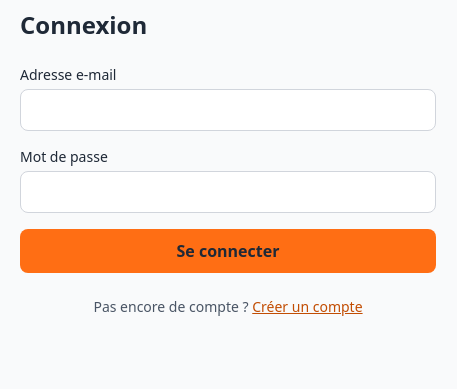
Scenario: page de connexion › affiche le message du serveur pour de mauvais identifiants
Type "marie@test.fr" into the field labelled "Adresse e-mail" at (228, 110), box top-left (20, 89), bottom-right (436, 131)
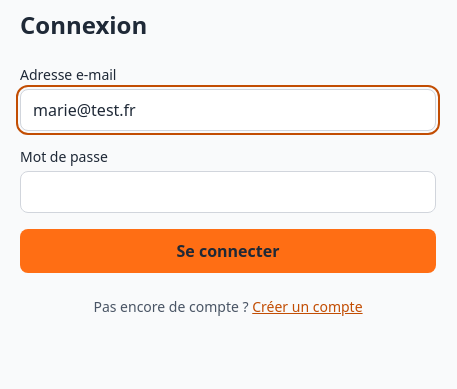
Type "mauvais-mot-de-passe" into the password field labelled "Mot de passe" at (228, 192), box top-left (20, 171), bottom-right (436, 213)
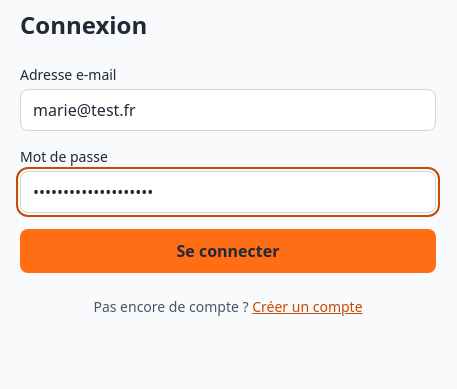
Click the button "Se connecter" at (228, 251), box top-left (20, 229), bottom-right (436, 273)
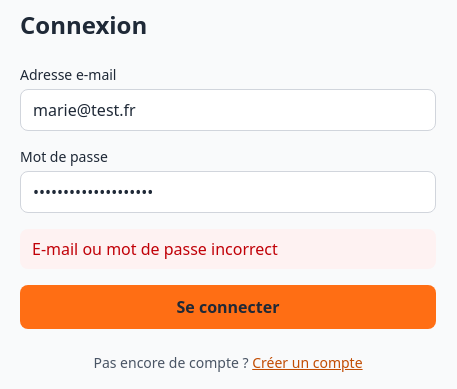
Expected: the message reads "E-mail ou mot de passe incorrect", top-left (32, 238), bottom-right (278, 260)
